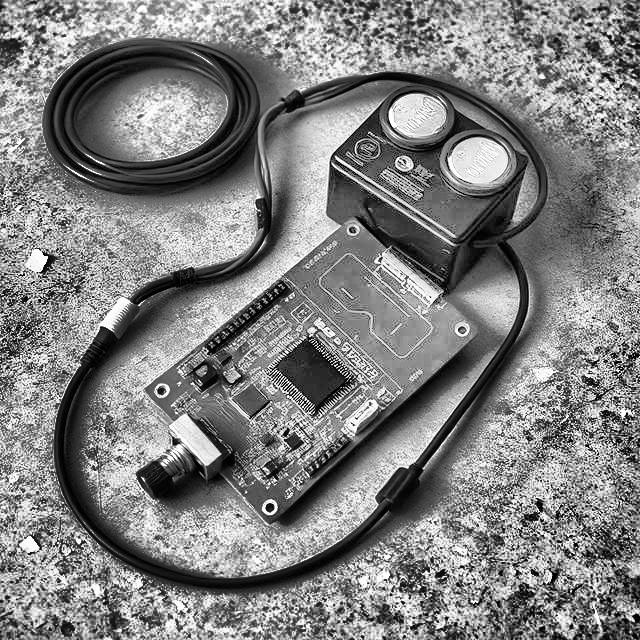Battery: (326, 80, 527, 289)
Cable: (51, 73, 548, 590), (43, 30, 259, 195)
PCB: (141, 213, 479, 525)
